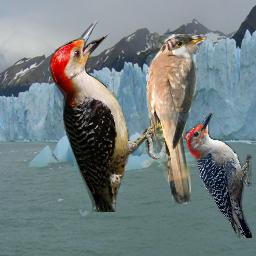Cuckoo: (146, 34, 207, 204)
Woodpecker: (50, 21, 175, 212), (183, 113, 252, 238)
